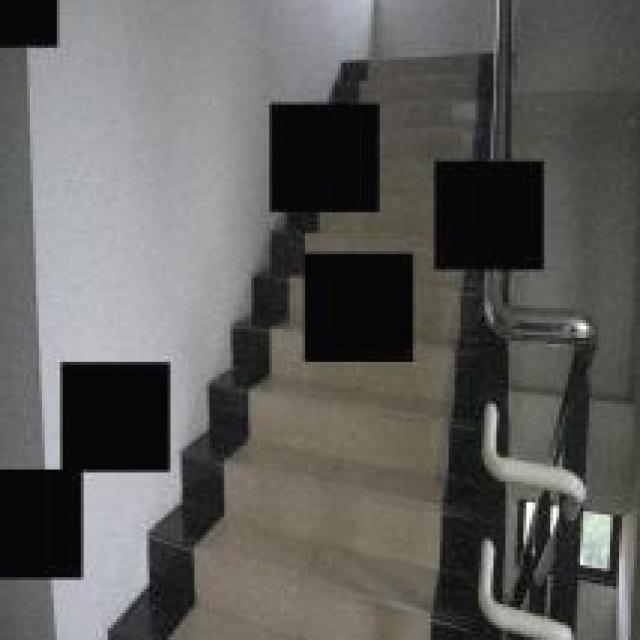upstair: (208, 378, 465, 640)
